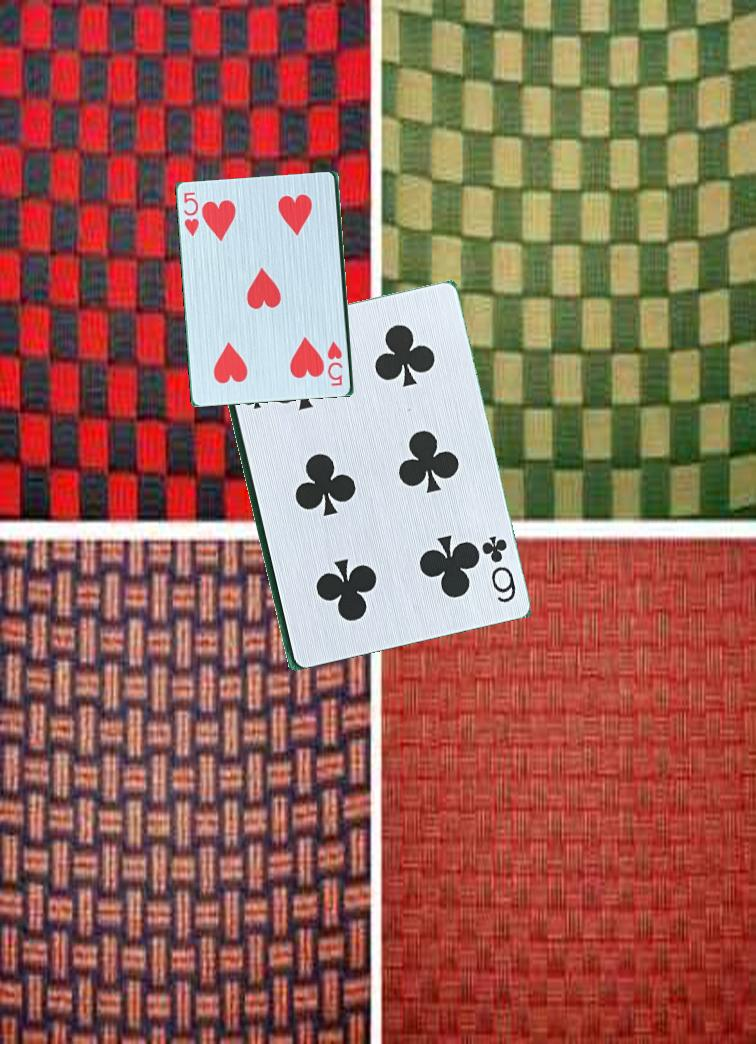5h: (180, 189, 202, 241), (325, 338, 346, 389)
6c: (476, 531, 519, 617)
